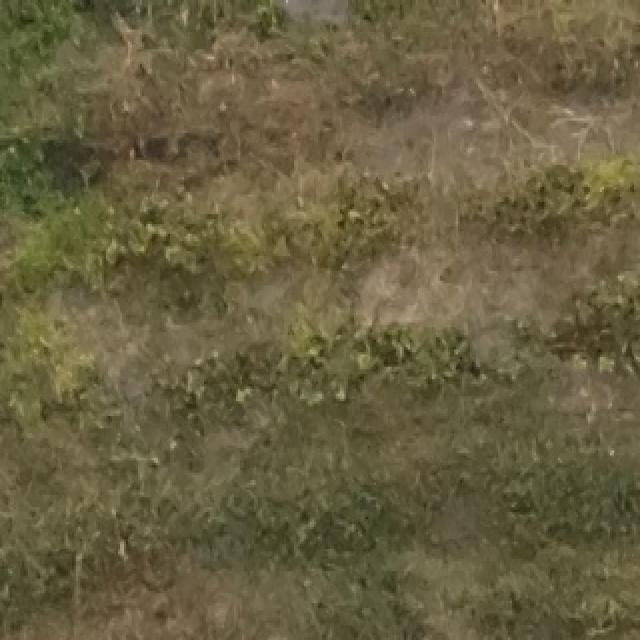strawberry-plant: (507, 151, 638, 250), (101, 210, 214, 290), (326, 185, 395, 264), (324, 328, 393, 386), (420, 324, 480, 382), (606, 280, 640, 366), (7, 232, 56, 290), (262, 348, 317, 398), (504, 311, 544, 376), (41, 370, 95, 412)
